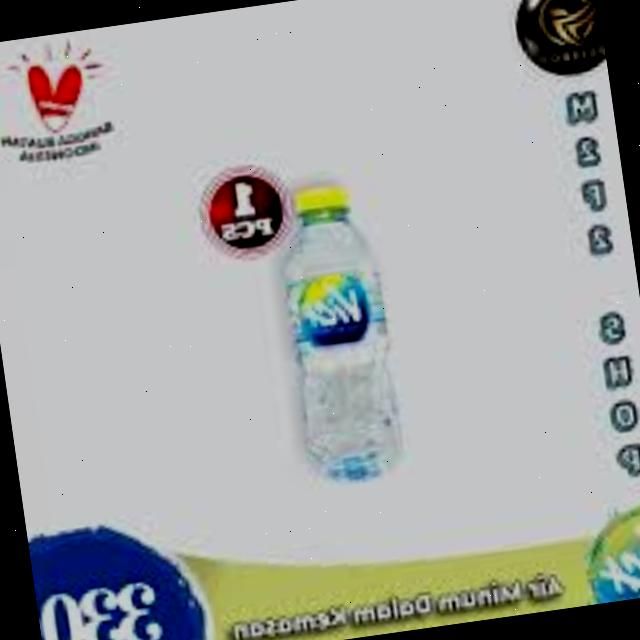trash: (260, 170, 418, 497)
